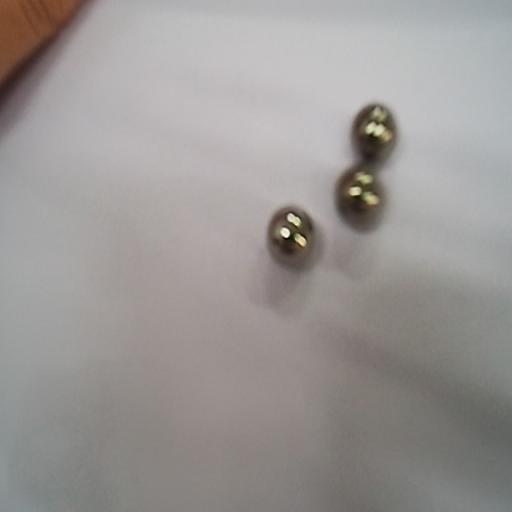steel-ball: (256, 192, 318, 263), (348, 97, 404, 164), (334, 171, 390, 236)
